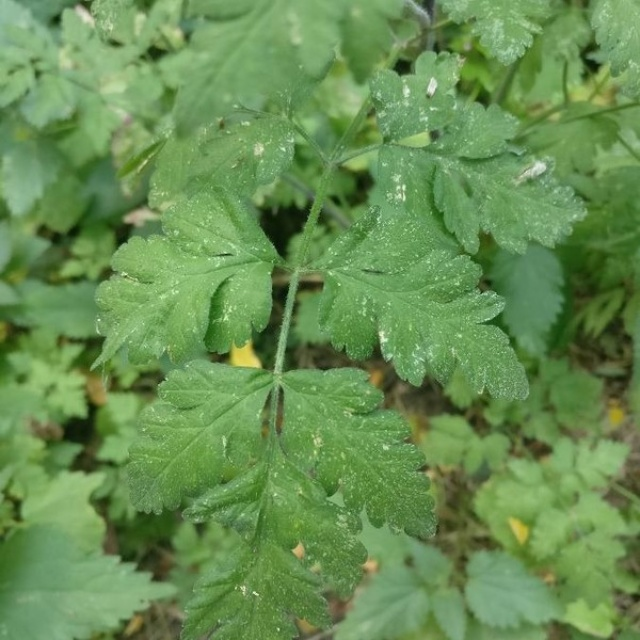obstacle: (68, 75, 580, 627)
